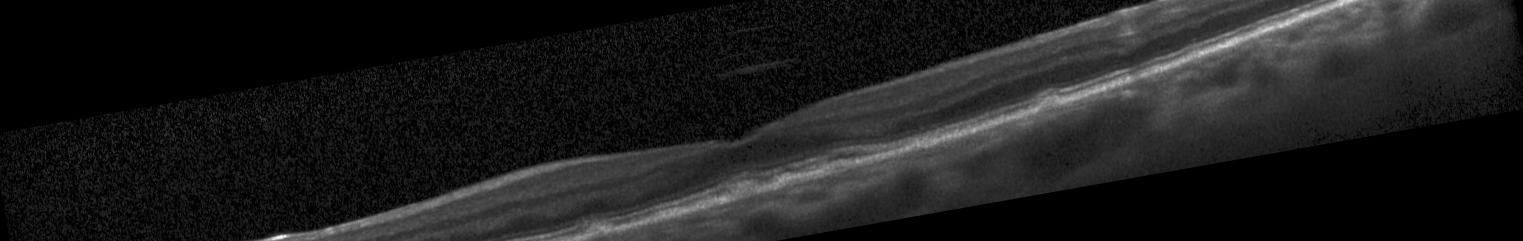retinal_drusen: (731, 178, 766, 200), (587, 221, 615, 237), (1037, 94, 1063, 110), (829, 160, 851, 173)
